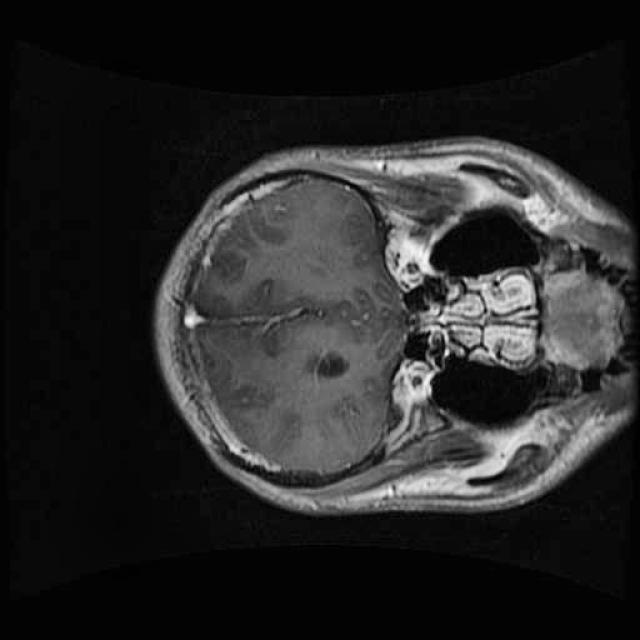Non-Tumor: (300, 281, 405, 360)
